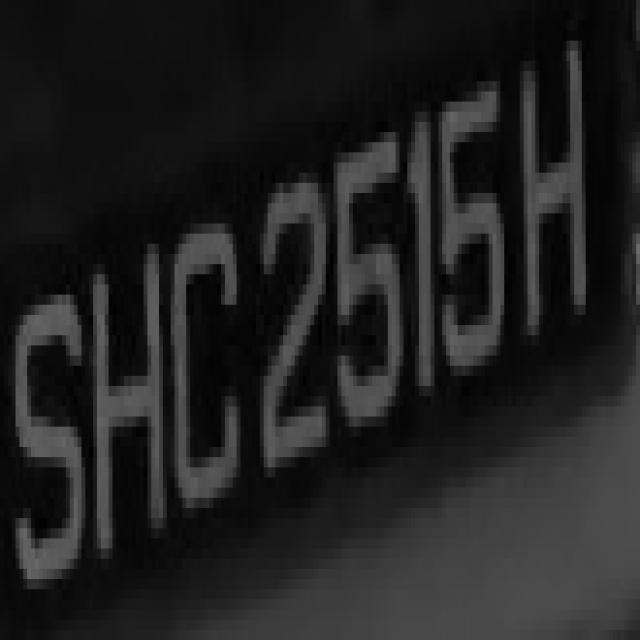1: (384, 40, 450, 478)
2: (244, 142, 346, 478)
5: (322, 92, 407, 457), (431, 61, 508, 427)
C: (147, 203, 256, 518)
H: (66, 213, 171, 590), (504, 31, 601, 366)
S: (12, 254, 82, 609)
